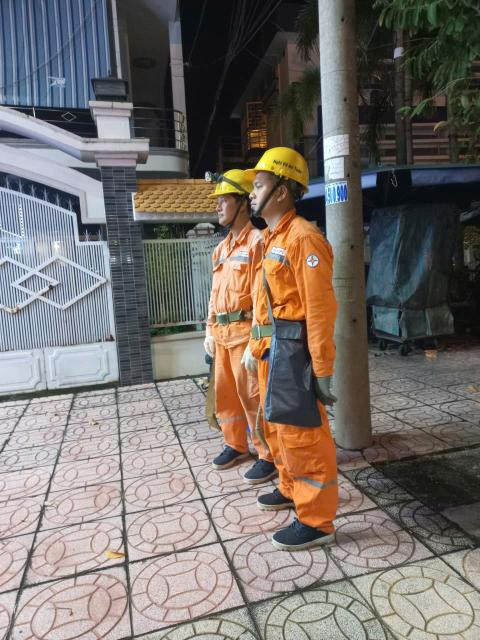gloves: (306, 360, 343, 408), (235, 336, 261, 372), (196, 332, 222, 358)
harness: (241, 316, 297, 343), (196, 308, 254, 332)
helmet: (244, 145, 318, 197), (200, 163, 253, 207)
shoes: (265, 512, 340, 555), (241, 448, 279, 487), (256, 484, 305, 512), (208, 436, 243, 468)
